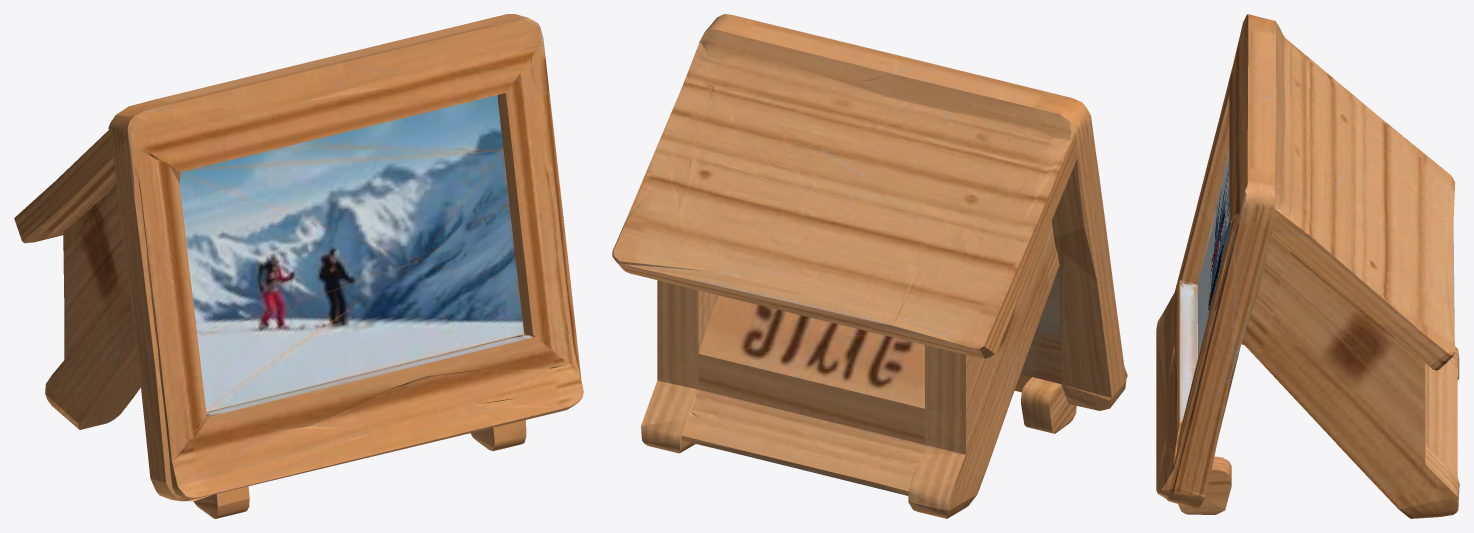
File: photo_frame.glb
3 renders of one model, left to right at view 1: azimuth 30°, elevation 25°; view 2: azimuth 150°, elevation 25°; view 3: azimuth 270°, elevation 25°, orthographic. The views are drawn at different scales.
Size of the model in its own units: 1.9 by 1.71 by 1.34.
1 material, 1 textured.
